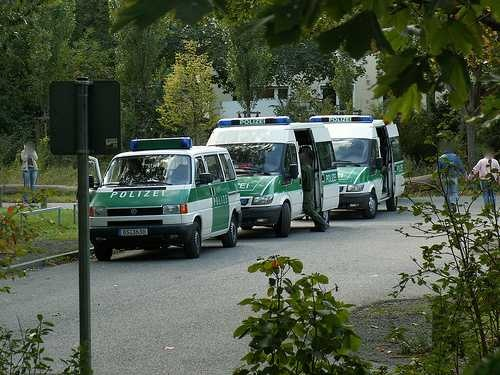Police Van: (84, 123, 234, 267), (201, 104, 321, 239), (305, 116, 410, 220)
